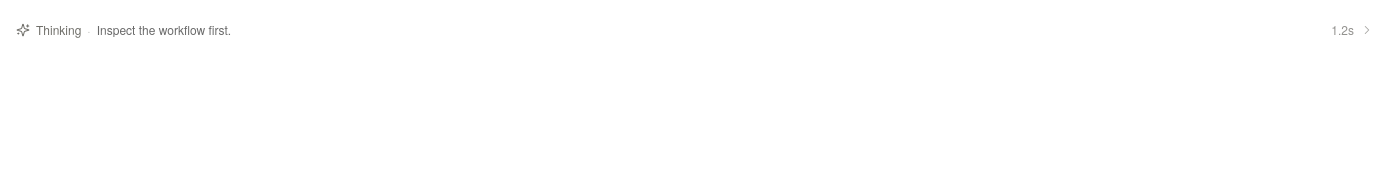
it: AgentThinking › keeps completed thinking compact until the whole row is expanded
Expected: the text "Inspect the workflow first." is shown, left=97, top=21, right=231, bottom=38
Expected: the text with test id "agent-thinking-separator" reads "·", left=87, top=21, right=91, bottom=38
Click the button with aria-label "Show thinking" at (59, 30), box left=12, top=12, right=1378, bottom=48
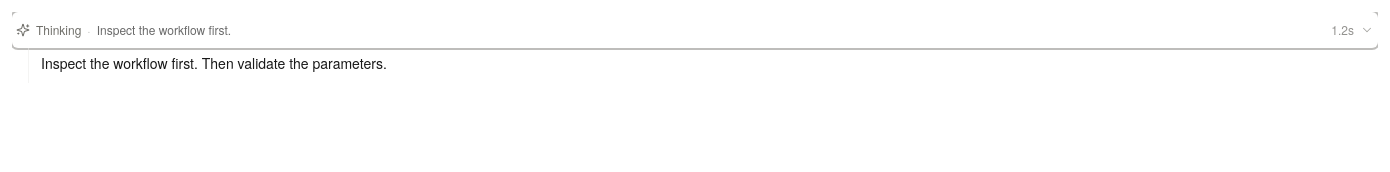
Now the element with test id "agent-thinking" shows "Then validate the parameters.", box left=41, top=53, right=387, bottom=73
